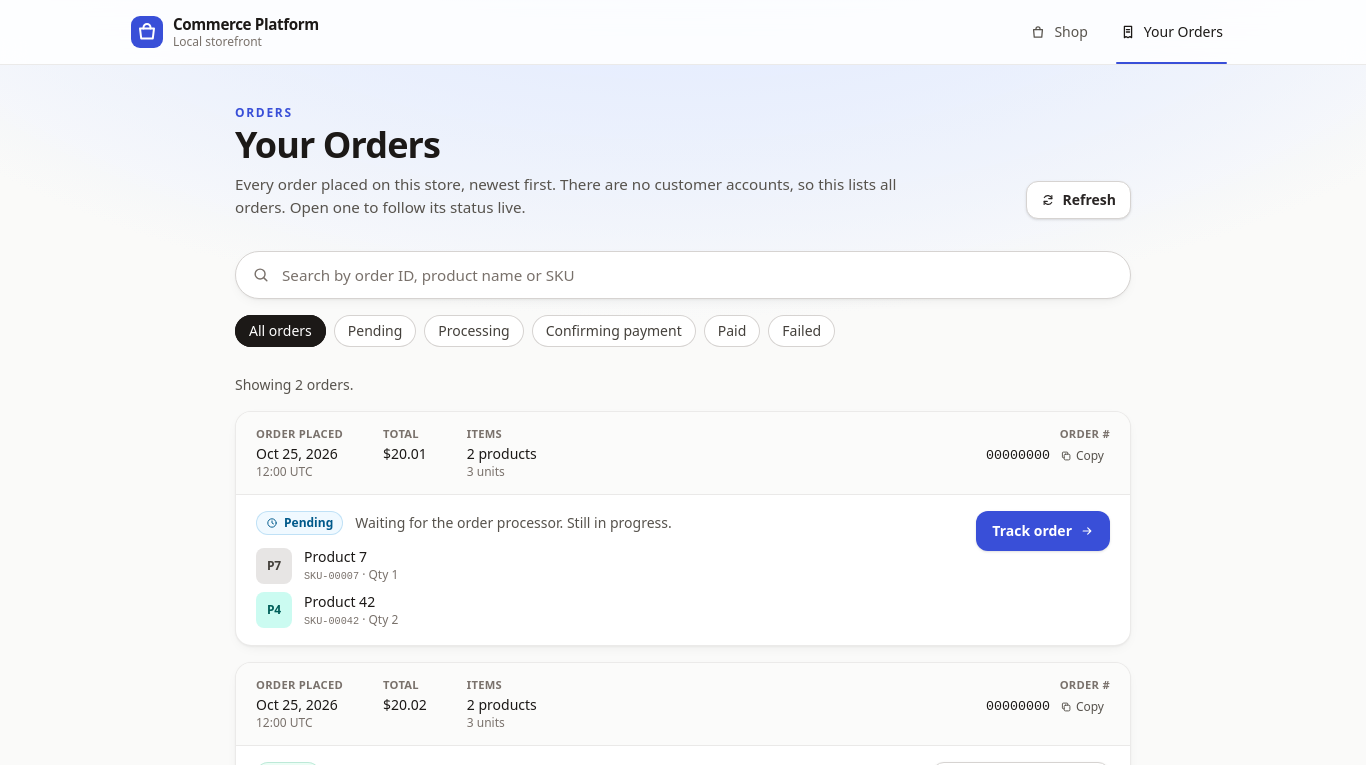
Scenario: Your Orders: cards › offers Track order for orders in progress and View order details for finished ones
This screenshot has width=1366, height=765.
Click the link "Track order".
click(1043, 531)  # box [976, 511, 1110, 551]
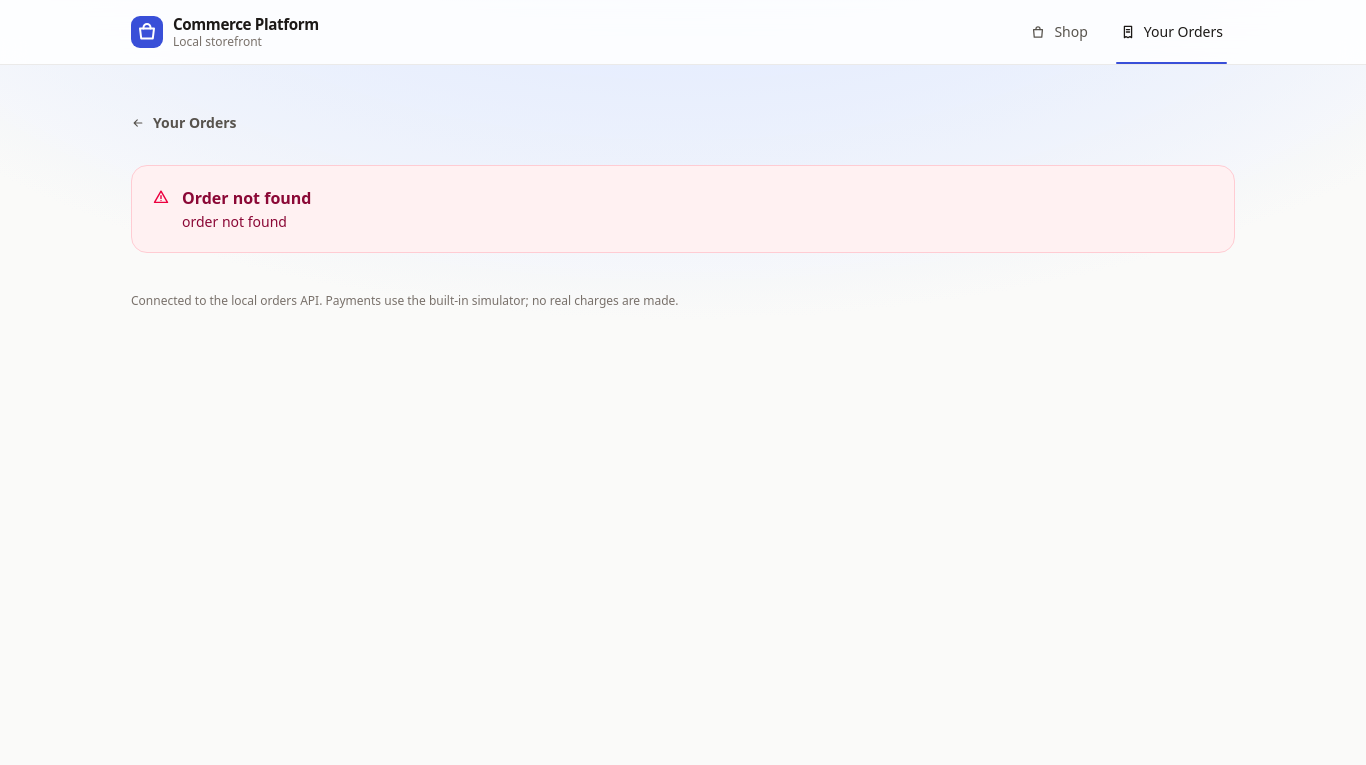
Now the text "Order not found" is shown, box [182, 186, 312, 210]
